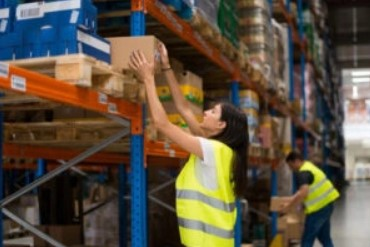worker: (175, 103, 237, 247), (286, 155, 340, 217)
